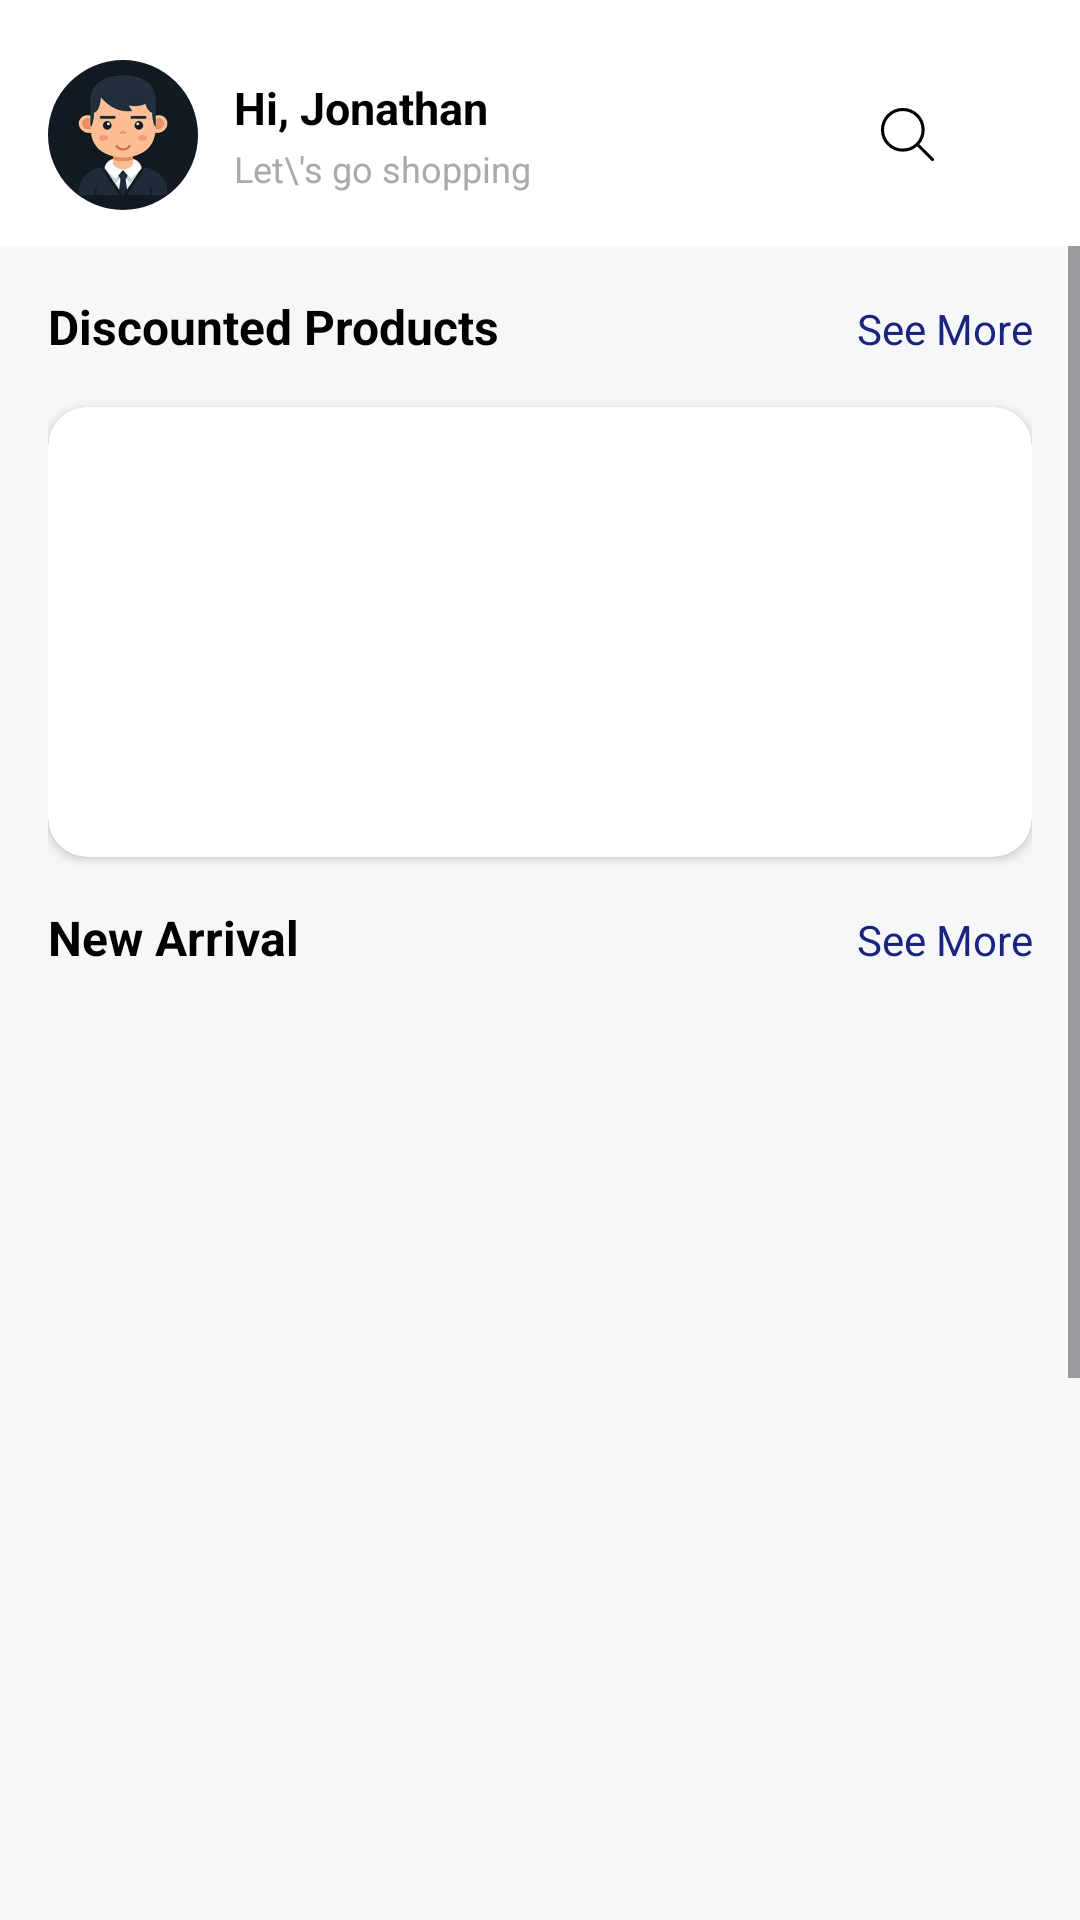

Point at icon controls on the screen. Image size 1080 × 1920, points as point (x, y).
profile avata: point (123, 135)
search: point (907, 134)
